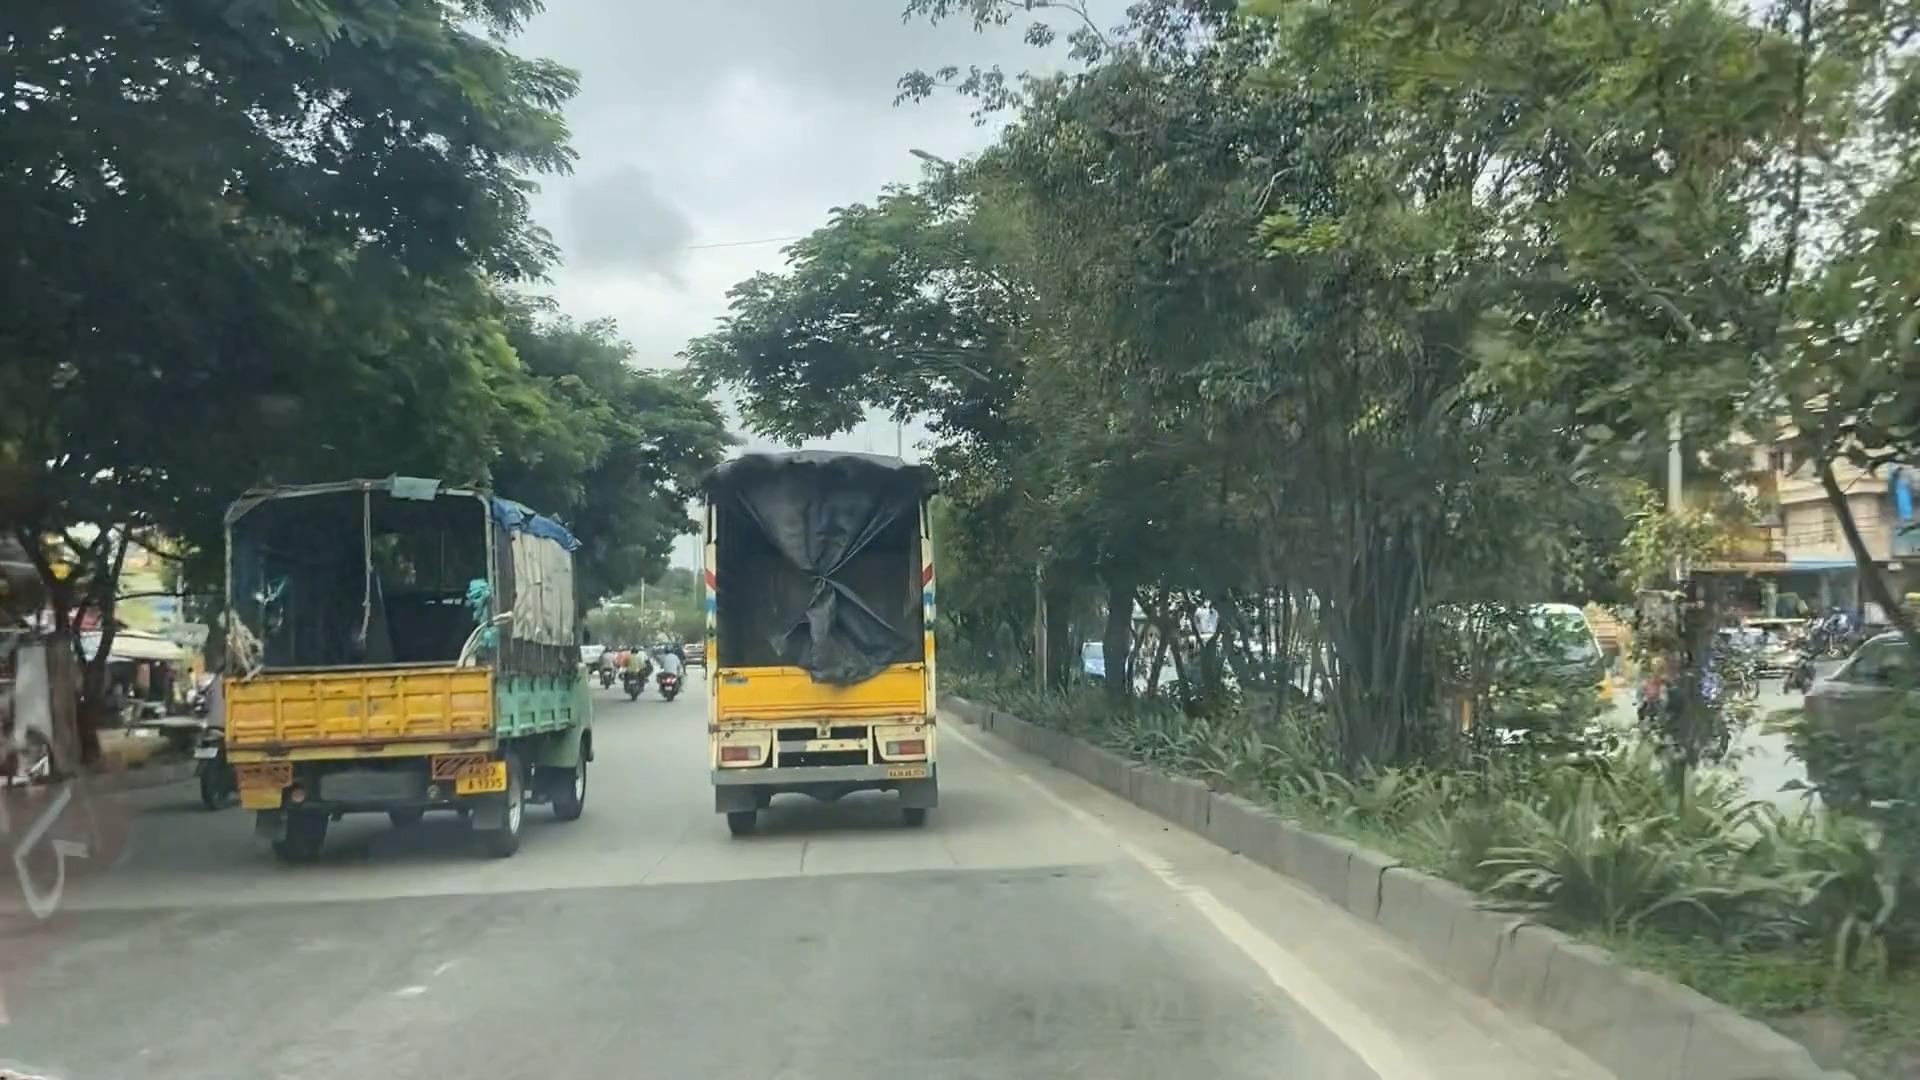HMV: (630, 373, 976, 897), (214, 459, 617, 878)
